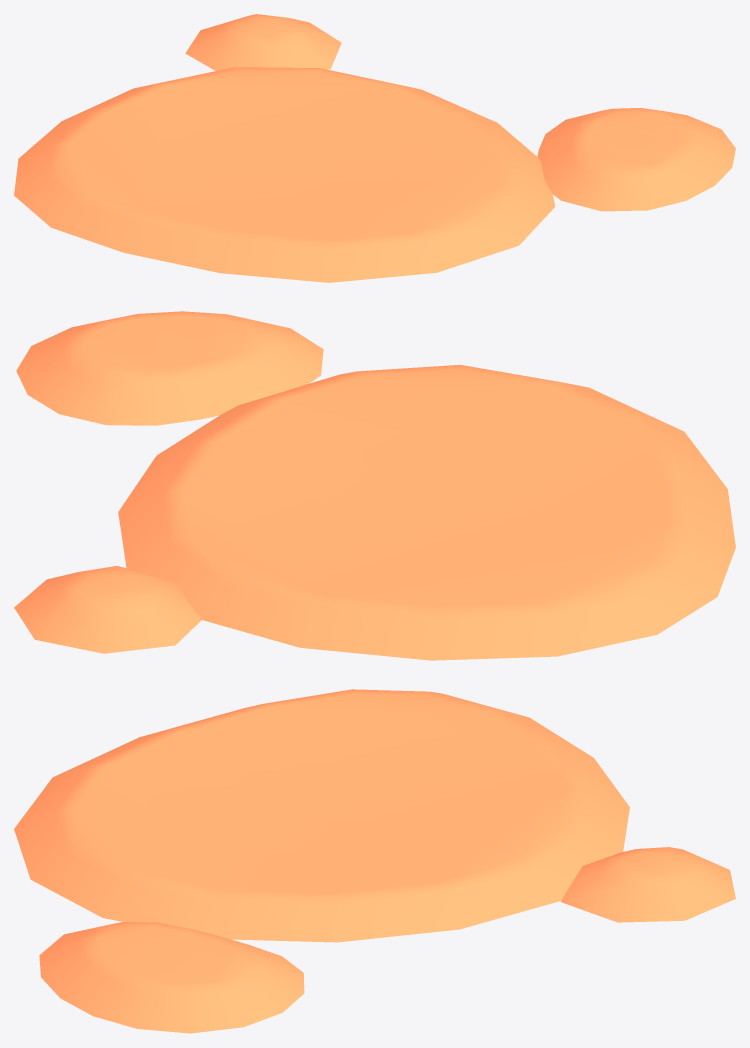
Rendered from PlatformGround_02.glb.
3 views of the same model, one above another, from view 1: azimuth 30°, elevation 25°; view 2: azimuth 150°, elevation 25°; view 3: azimuth 270°, elevation 25° (orthographic). The views are drawn at different scales.
Parts seen in each view (by area): view 1: PlatformGround_02; view 2: PlatformGround_02; view 3: PlatformGround_02.
Boxes of the visible parts, x1,y1,x2,y2 form: PlatformGround_02: [14, 14, 735, 282]; PlatformGround_02: [14, 311, 735, 660]; PlatformGround_02: [14, 689, 735, 1033].
Bounding box in the file's own units: 3.85 × 0.1252 × 3.43.
1 material, 1 textured.
